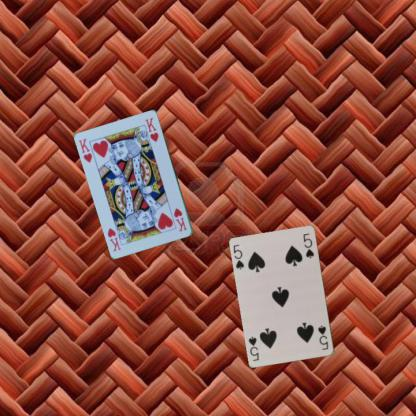5s: (230, 242, 245, 271), (315, 323, 330, 351)
Kh: (76, 136, 94, 164), (172, 205, 188, 233)
